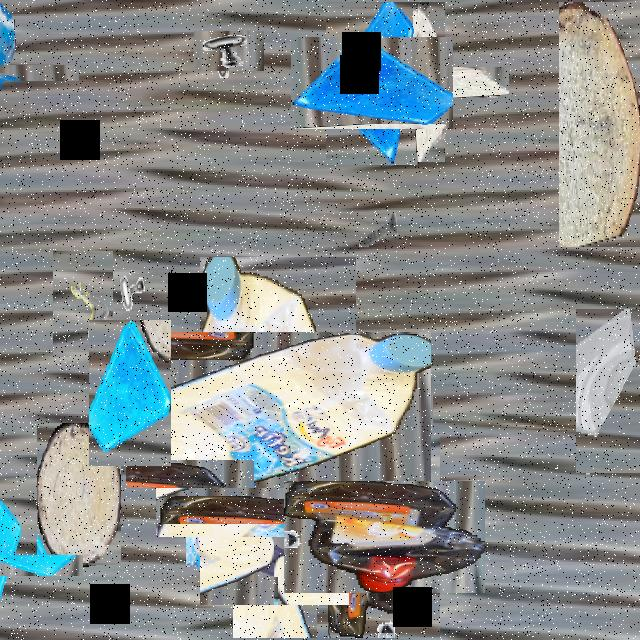glass: (308, 20, 436, 147), (217, 505, 333, 622), (89, 320, 171, 466), (171, 447, 277, 552), (576, 309, 640, 473), (0, 523, 52, 607), (0, 33, 48, 112)
metal: (341, 362, 422, 442), (53, 251, 113, 357), (107, 268, 157, 358), (357, 192, 399, 267), (201, 24, 257, 79)
plastic: (162, 295, 394, 526), (306, 458, 462, 616)
wood: (559, 2, 640, 247), (37, 423, 121, 565), (381, 34, 477, 130)
